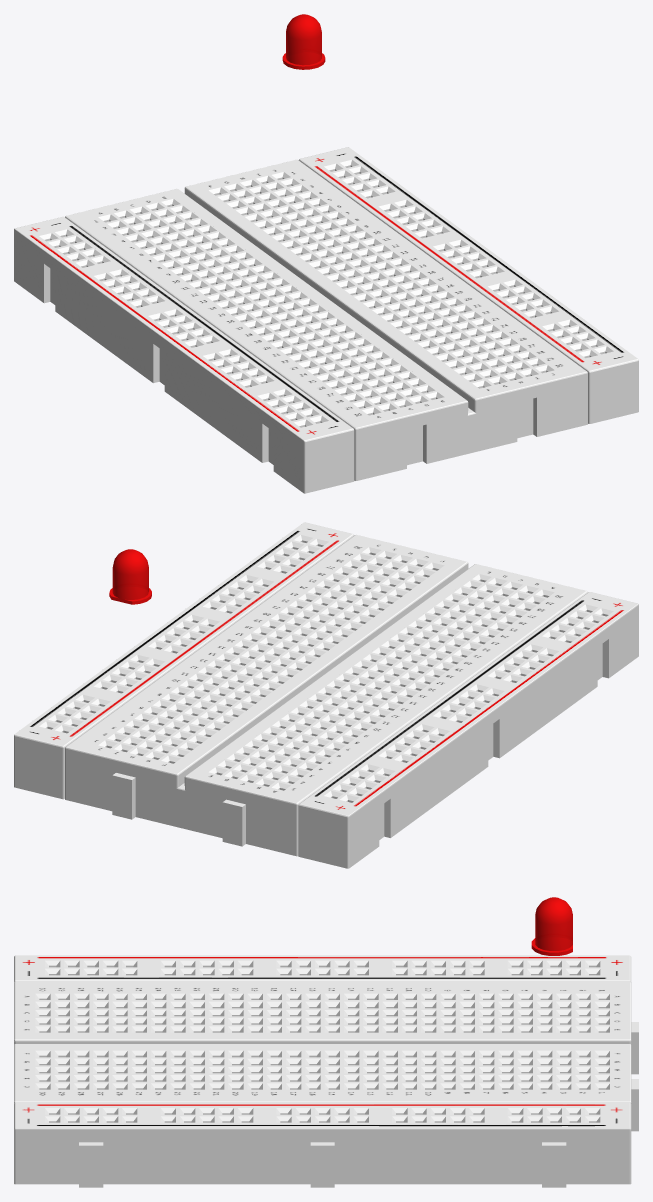
File: breadboard.fbx
The picture shows the model from 3 angles, top to bottom: view 1: azimuth 30°, elevation 25°; view 2: azimuth 150°, elevation 25°; view 3: azimuth 270°, elevation 25°; orthographic projection. The views are drawn at different scales.
Parts seen in each view (by area): view 1: Breadboard, Diode-Light-Emitting; view 2: Breadboard, Diode-Light-Emitting; view 3: Breadboard, Diode-Light-Emitting.
Boxes of the visible parts, x1,y1,x2,y2 form: Breadboard: (14, 147, 638, 493); Diode-Light-Emitting: (282, 14, 325, 69); Breadboard: (14, 522, 638, 868); Diode-Light-Emitting: (109, 549, 151, 604); Breadboard: (14, 955, 638, 1187); Diode-Light-Emitting: (531, 897, 572, 955).
Bounding box in the file's own units: 5.42 × 3.48 × 8.1.
3 materials, 1 textured.
